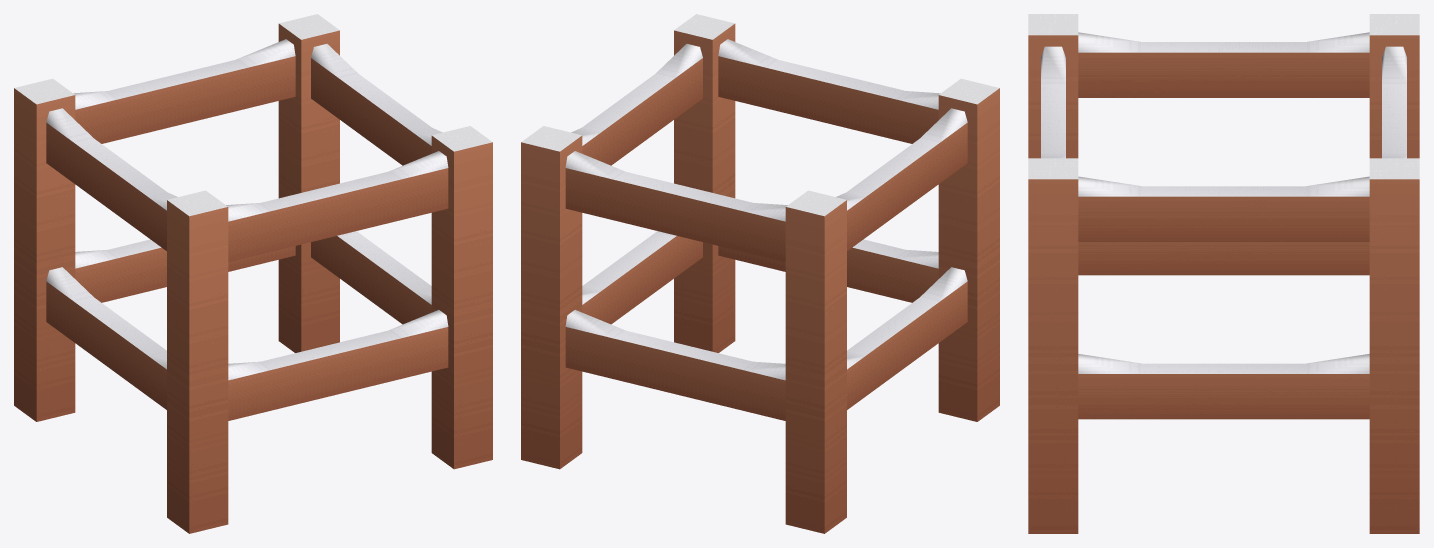
Rendered from snow-wood-structure-high.glb.
3 renders of one model, left to right at view 1: azimuth 30°, elevation 25°; view 2: azimuth 150°, elevation 25°; view 3: azimuth 270°, elevation 25°, orthographic. The views are drawn at different scales.
Parts seen in each view (by area): view 1: snow-wood-structure-high; view 2: snow-wood-structure-high; view 3: snow-wood-structure-high.
Boxes of the visible parts, x1=… form: snow-wood-structure-high: x1=14, y1=14, x2=492, y2=533; snow-wood-structure-high: x1=521, y1=14, x2=999, y2=533; snow-wood-structure-high: x1=1028, y1=14, x2=1419, y2=533.
Size of the model in its own units: 1 by 1 by 1.
1 material, 1 textured.
